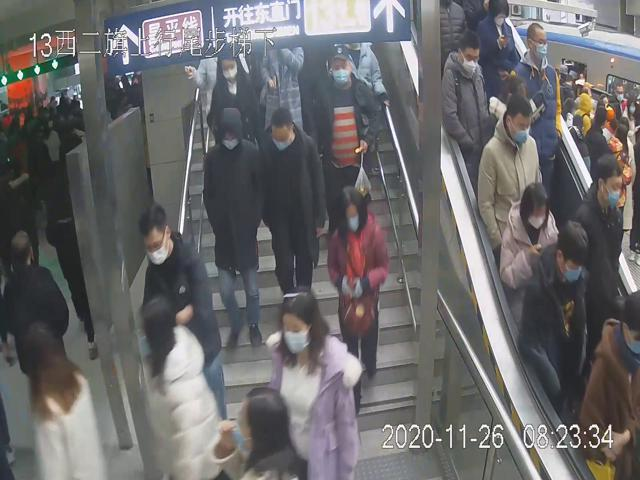person: (140, 204, 229, 427), (265, 285, 364, 480), (200, 104, 268, 353), (324, 184, 392, 412), (522, 220, 594, 397), (259, 105, 323, 304), (315, 44, 382, 216), (477, 93, 545, 244), (511, 18, 564, 193), (573, 150, 624, 319), (497, 182, 559, 320), (440, 31, 488, 189), (210, 51, 254, 147)
